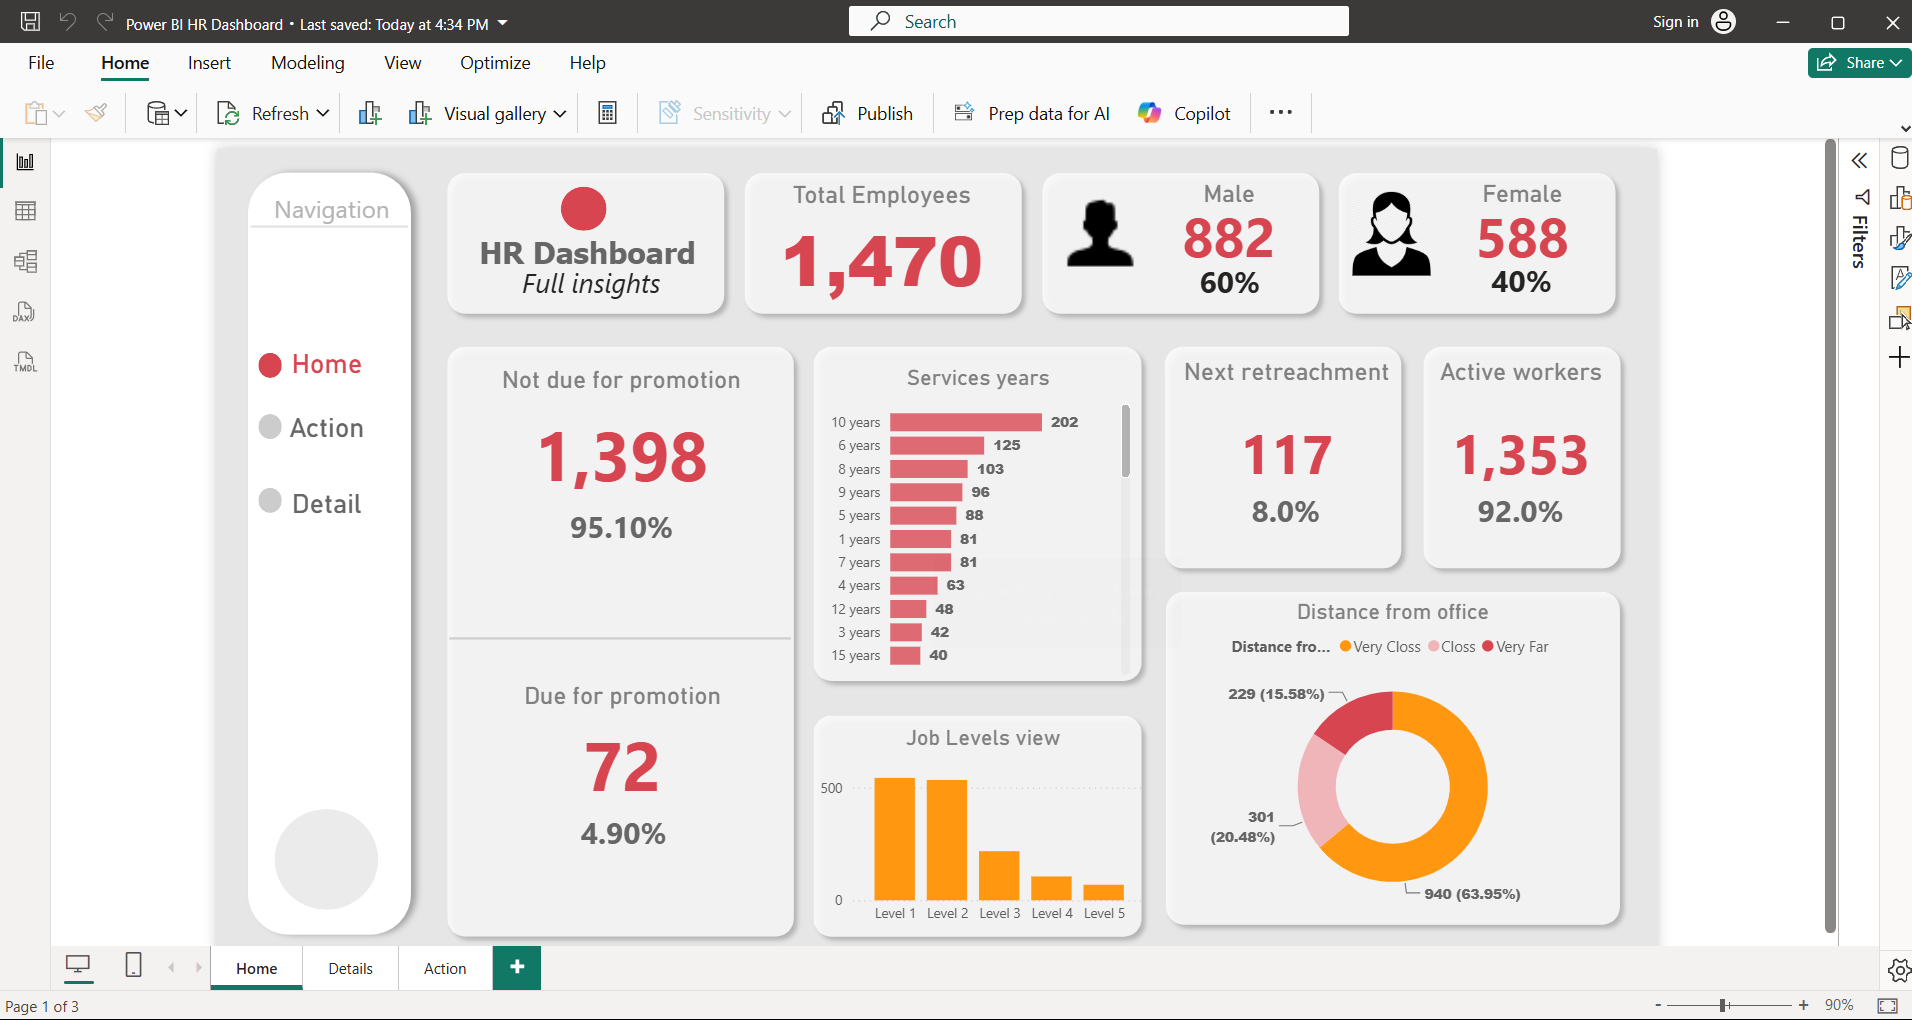

The page's visual inventory and layout, read from the dashboard file:
{"tool":"powerbi","page":{"name":"Home","canvas":[1280,720],"ordinal":0},"visuals":[{"type":"shape","box":[16.5,9.6,166.5,699.2],"z":0},{"type":"shape","box":[195.4,12.4,264.3,143.1],"z":1000},{"type":"shape","box":[459.7,12.4,264.3,143.1],"z":2000},{"type":"shape","box":[724,12.4,264.3,143.1],"z":3000},{"type":"shape","box":[988.2,12.4,264.3,143.1],"z":4000},{"type":"shape","box":[195.4,166.5,326.2,542.3],"z":5000},{"type":"shape","box":[521.6,166.2,309.7,315.2],"z":6000},{"type":"shape","box":[521.6,494.1,309.7,214.7],"z":7000},{"type":"shape","box":[834.8,384.2,421.6,314.1],"z":8000},{"type":"shape","box":[833.6,166.7,228.3,215],"z":9000},{"type":"shape","box":[1063.1,166.7,193.3,215],"z":10000},{"type":"textbox","box":[209.7,71.2,238.7,51.4],"z":11000},{"type":"textbox","box":[36.9,33,130.5,51.4],"z":12000},{"type":"textbox","box":[209.7,97.6,251.9,55.4],"z":13000},{"type":"shape","box":[305.9,33,40.9,39.6],"z":14000},{"type":"card","title":"Total Employees","fields":{"Values":["All Measures.Total Emp"]},"box":[468,27.5,246.4,112.9],"z":15000},{"type":"card","title":"Male","fields":{"Values":["All Measures.Male"]},"box":[814.8,26.2,170.7,75.7],"z":16000},{"type":"card","fields":{"Values":["All Measures.Male %"]},"box":[834.1,90.8,132.1,55.1],"z":17000},{"type":"card","title":"Female","fields":{"Values":["All Measures.Female"]},"box":[1068.7,26.2,183.1,75.7],"z":18000},{"type":"card","fields":{"Values":["All Measures.Female %"]},"box":[1083.9,90.8,152.8,53.7],"z":19000},{"type":"image","box":[736.3,26.2,95,90.8],"z":20000},{"type":"actionButton","title":"Home","box":[27.8,176.4,140.1,30.2],"z":21000},{"type":"image","box":[1004.7,33,79.8,84],"z":22000},{"type":"actionButton","title":"Action","box":[27.7,233.4,139.8,56.7],"z":23000},{"type":"card","title":"Active workers","fields":{"Values":["All Measures.On service"]},"box":[1058.3,186,203,142.6],"z":24000},{"type":"actionButton","title":"Detail","box":[27.7,300.7,139.8,58],"z":25000},{"type":"card","fields":{"Values":["All Measures.% Active workers"]},"box":[1082.4,296,153.4,53.2],"z":26000},{"type":"card","title":"Next retreachment","fields":{"Values":["All Measures.Due for retirment"]},"box":[843.2,186,215,142.6],"z":27000},{"type":"card","fields":{"Values":["All Measures.%Due for retirment"]},"box":[865,296,171.5,53.2],"z":28000},{"type":"columnChart","title":"Job Levels view","fields":{"Category":["HR Analytics Data.Job Level"],"Y":["All Measures.Total Emp"]},"box":[531.3,512,300,185.8],"z":29000},{"type":"barChart","title":"Services years","fields":{"Category":["HR Analytics Data.Total working Years"],"Y":["All Measures.Total Emp"]},"box":[536.4,192.1,280.3,280.3],"z":30000},{"type":"donutChart","title":"Distance from office","fields":{"Category":["HR Analytics Data.Distance from office"],"Y":["All Measures.Total Emp"]},"box":[840.8,399.9,408.3,282.7],"z":31000},{"type":"card","title":"Not due for promotion","fields":{"Values":["All Measures.Not Due"]},"box":[207.8,192.1,303.2,130.5],"z":32000},{"type":"card","title":"Due for promotion","fields":{"Values":["All Measures.Due for promotion"]},"box":[209,473.8,303.2,119.6],"z":33000},{"type":"shape","box":[206.6,427.7,303.2,14.5],"z":34000},{"type":"card","fields":{"Values":["All Measures.% Not due for promotion"]},"box":[283.5,309.7,152.8,53.7],"z":35000},{"type":"card","fields":{"Values":["All Measures.% Due for promotion"]},"box":[285.1,582.5,152.2,53.2],"z":36000},{"type":"shape","box":[36.9,180.7,21.1,22.4],"z":37000},{"type":"shape","box":[36.9,236,21.1,22.4],"z":38000},{"type":"shape","box":[36.9,300.7,21.1,22.4],"z":39000},{"type":"shape","box":[51.4,586.8,92.3,89.7],"z":40000},{"type":"shape","box":[30.2,61.6,140.1,15.7],"z":41000}]}

Visuals, with their boxes on the page's 1280x720 design canvas (x1, y1, x2, y2). These are canvas units, not pixel positions in the 1912x1020 screenshot, which may show the page scaled, cropped or inside an application window:
shape: {"x1": 16, "y1": 10, "x2": 183, "y2": 709}
shape: {"x1": 195, "y1": 12, "x2": 460, "y2": 156}
shape: {"x1": 460, "y1": 12, "x2": 724, "y2": 156}
shape: {"x1": 724, "y1": 12, "x2": 988, "y2": 156}
shape: {"x1": 988, "y1": 12, "x2": 1252, "y2": 156}
shape: {"x1": 195, "y1": 166, "x2": 522, "y2": 709}
shape: {"x1": 522, "y1": 166, "x2": 831, "y2": 481}
shape: {"x1": 522, "y1": 494, "x2": 831, "y2": 709}
shape: {"x1": 835, "y1": 384, "x2": 1256, "y2": 698}
shape: {"x1": 834, "y1": 167, "x2": 1062, "y2": 382}
shape: {"x1": 1063, "y1": 167, "x2": 1256, "y2": 382}
textbox: {"x1": 210, "y1": 71, "x2": 448, "y2": 123}
textbox: {"x1": 37, "y1": 33, "x2": 167, "y2": 84}
textbox: {"x1": 210, "y1": 98, "x2": 462, "y2": 153}
shape: {"x1": 306, "y1": 33, "x2": 347, "y2": 73}
"Total Employees" card: {"x1": 468, "y1": 28, "x2": 714, "y2": 140}
"Male" card: {"x1": 815, "y1": 26, "x2": 986, "y2": 102}
card - All Measures.Male %: {"x1": 834, "y1": 91, "x2": 966, "y2": 146}
"Female" card: {"x1": 1069, "y1": 26, "x2": 1252, "y2": 102}
card - All Measures.Female %: {"x1": 1084, "y1": 91, "x2": 1237, "y2": 144}
image: {"x1": 736, "y1": 26, "x2": 831, "y2": 117}
"Home" actionButton: {"x1": 28, "y1": 176, "x2": 168, "y2": 207}
image: {"x1": 1005, "y1": 33, "x2": 1084, "y2": 117}
"Action" actionButton: {"x1": 28, "y1": 233, "x2": 168, "y2": 290}
"Active workers" card: {"x1": 1058, "y1": 186, "x2": 1261, "y2": 329}
"Detail" actionButton: {"x1": 28, "y1": 301, "x2": 168, "y2": 359}
card - All Measures.% Active workers: {"x1": 1082, "y1": 296, "x2": 1236, "y2": 349}
"Next retreachment" card: {"x1": 843, "y1": 186, "x2": 1058, "y2": 329}
card - All Measures.%Due for retirment: {"x1": 865, "y1": 296, "x2": 1036, "y2": 349}
"Job Levels view" columnChart: {"x1": 531, "y1": 512, "x2": 831, "y2": 698}
"Services years" barChart: {"x1": 536, "y1": 192, "x2": 817, "y2": 472}
"Distance from office" donutChart: {"x1": 841, "y1": 400, "x2": 1249, "y2": 683}
"Not due for promotion" card: {"x1": 208, "y1": 192, "x2": 511, "y2": 323}
"Due for promotion" card: {"x1": 209, "y1": 474, "x2": 512, "y2": 593}
shape: {"x1": 207, "y1": 428, "x2": 510, "y2": 442}
card - All Measures.% Not due for promotion: {"x1": 284, "y1": 310, "x2": 436, "y2": 363}
card - All Measures.% Due for promotion: {"x1": 285, "y1": 582, "x2": 437, "y2": 636}
shape: {"x1": 37, "y1": 181, "x2": 58, "y2": 203}
shape: {"x1": 37, "y1": 236, "x2": 58, "y2": 258}
shape: {"x1": 37, "y1": 301, "x2": 58, "y2": 323}
shape: {"x1": 51, "y1": 587, "x2": 144, "y2": 676}
shape: {"x1": 30, "y1": 62, "x2": 170, "y2": 77}
